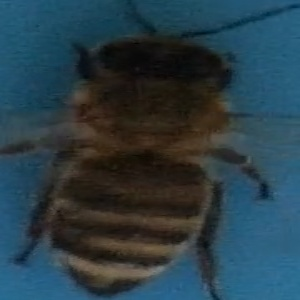bee: (42, 14, 278, 298)
